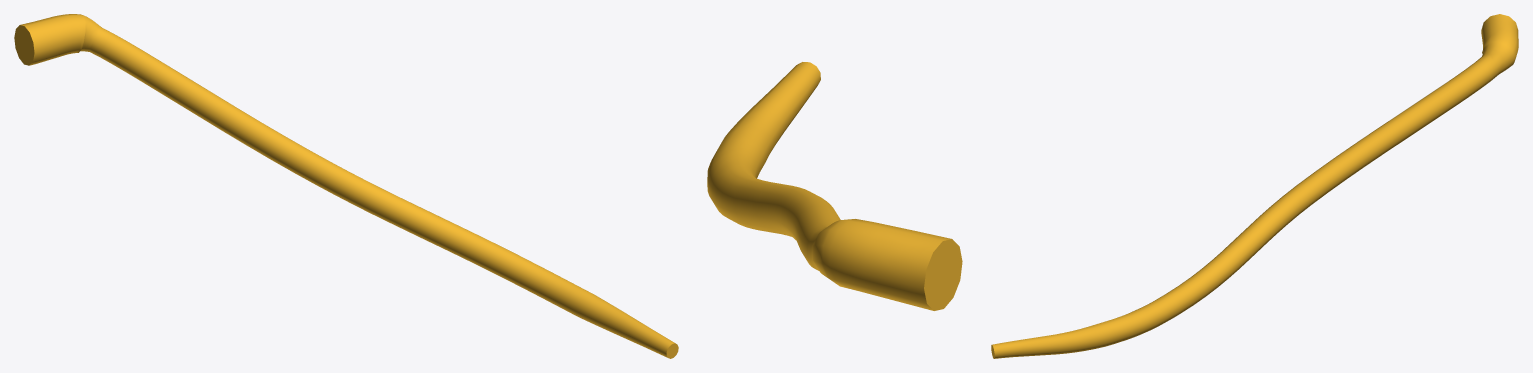
Rendered from nervoso-optic-nerve-ii-l.glb.
3 renders of one model, left to right at view 1: azimuth 30°, elevation 25°; view 2: azimuth 150°, elevation 25°; view 3: azimuth 270°, elevation 25°, orthographic. The views are drawn at different scales.
Visible parts, largest first — view 1: Optic nerve (II).l; view 2: Optic nerve (II).l; view 3: Optic nerve (II).l.
Boxes of the visible parts, left/top/right/bottom form: Optic nerve (II).l: left=14, top=14, right=678, bottom=358; Optic nerve (II).l: left=707, top=62, right=962, bottom=310; Optic nerve (II).l: left=991, top=14, right=1518, bottom=358.
Bounding box in the file's own units: 0.0305 × 0.0167 × 0.0425.
